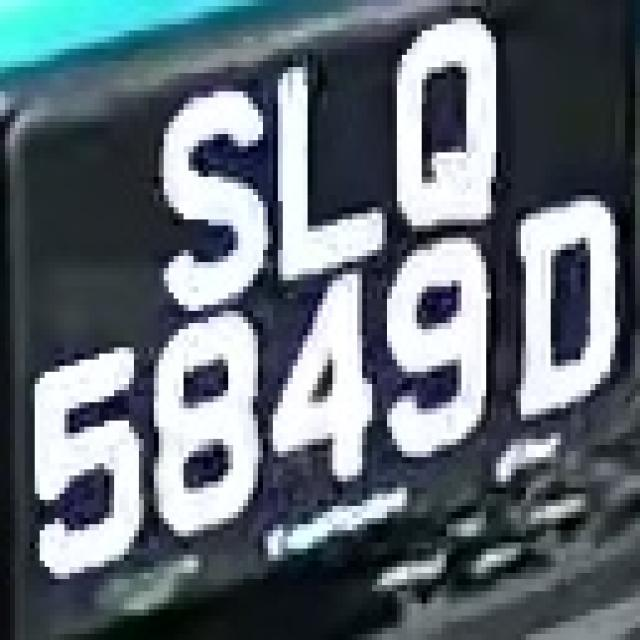4: (273, 280, 387, 506)
5: (30, 341, 149, 579)
8: (144, 311, 273, 530)
9: (382, 244, 501, 475)
D: (501, 189, 630, 439)
L: (263, 37, 392, 268)
Q: (367, 12, 516, 232)
S: (134, 67, 268, 299)
